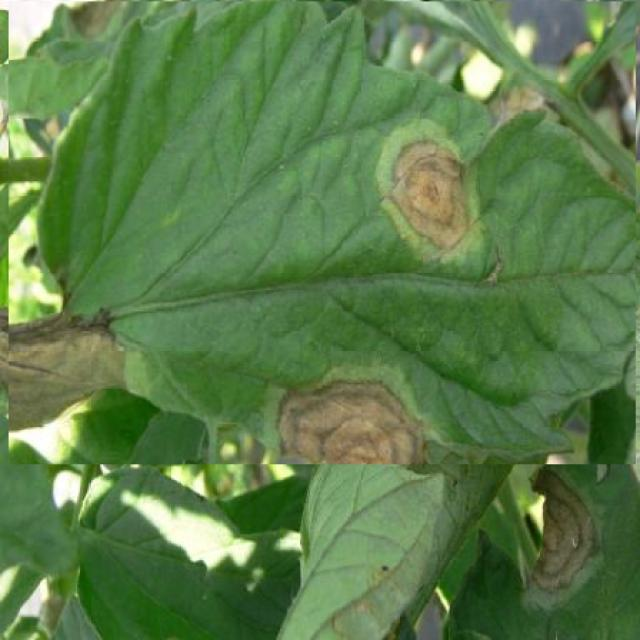Late Blight: (9, 2, 636, 465)
